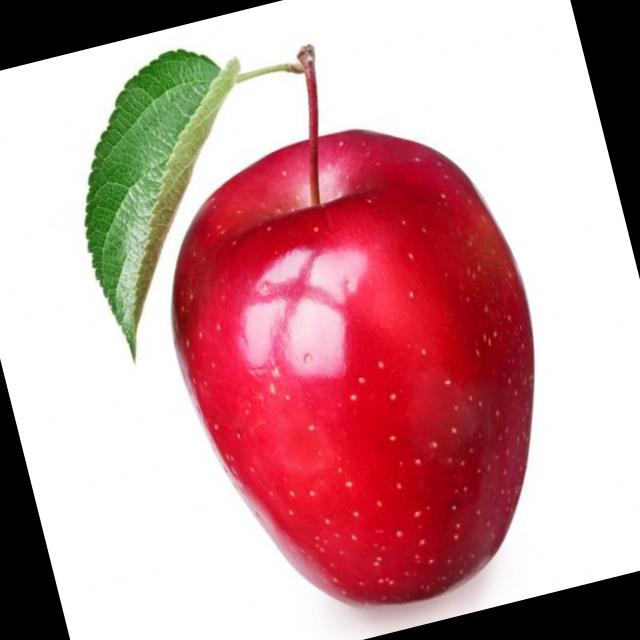apple: (126, 87, 602, 640)
